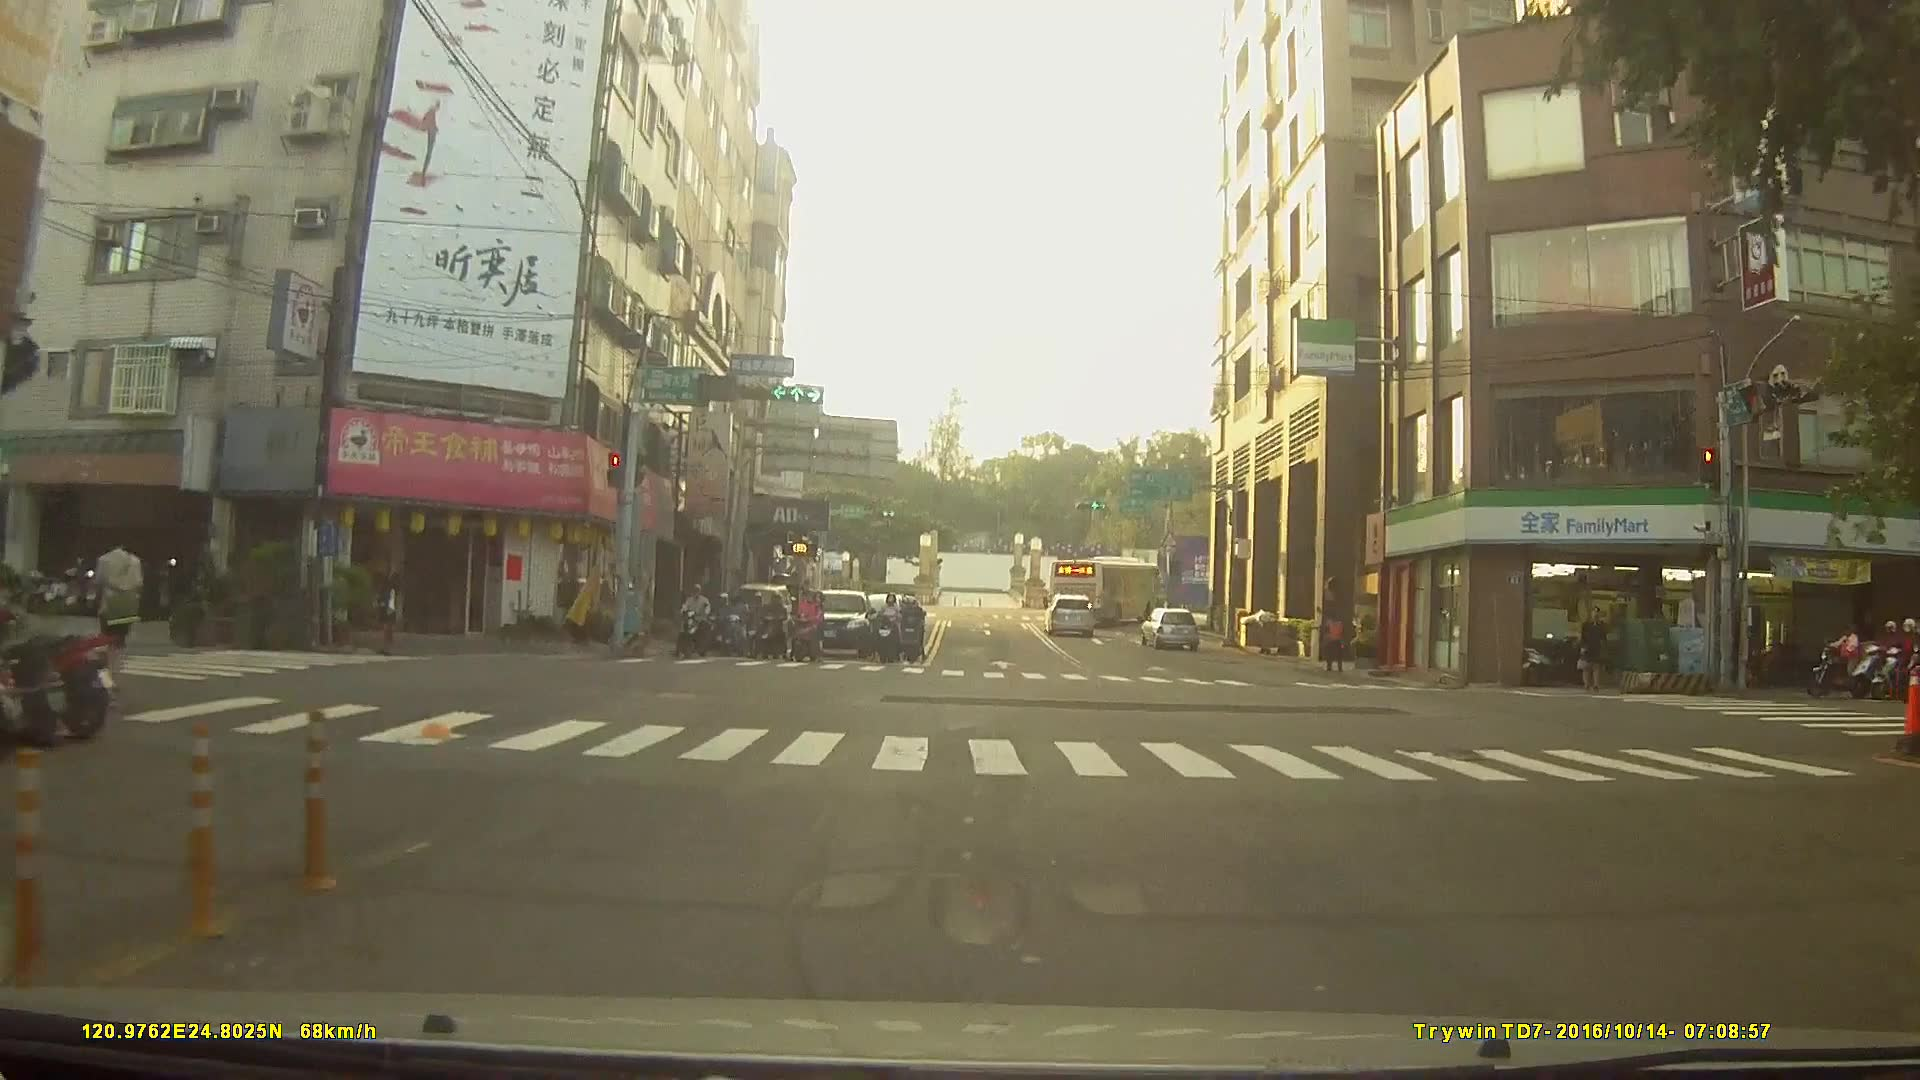pedestrian: (84, 524, 147, 702), (372, 573, 408, 661), (1577, 609, 1609, 698), (1319, 612, 1349, 675)
rider: (1809, 621, 1872, 695), (1847, 622, 1907, 698), (1874, 619, 1920, 697), (678, 586, 715, 664), (794, 588, 828, 671), (753, 596, 791, 664), (896, 595, 931, 665), (878, 605, 907, 679), (720, 597, 751, 661)
vehicle: (1048, 557, 1164, 629), (799, 585, 875, 657), (1137, 606, 1201, 649), (1043, 590, 1096, 636)
